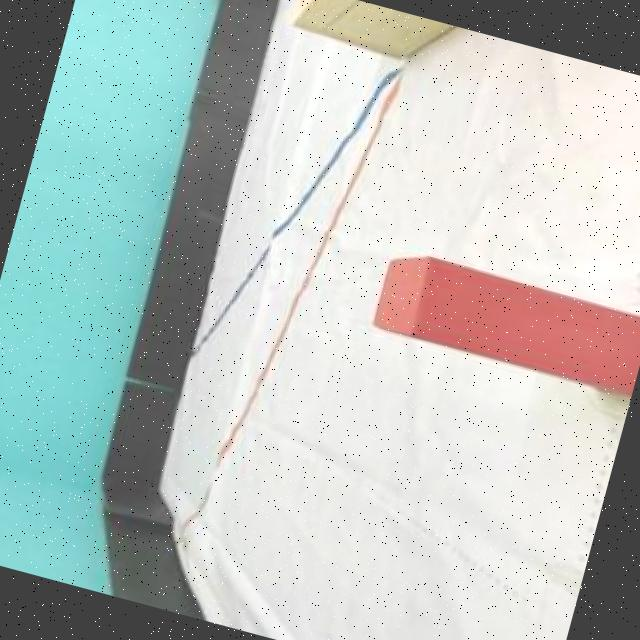redbox: (369, 248, 640, 395)
